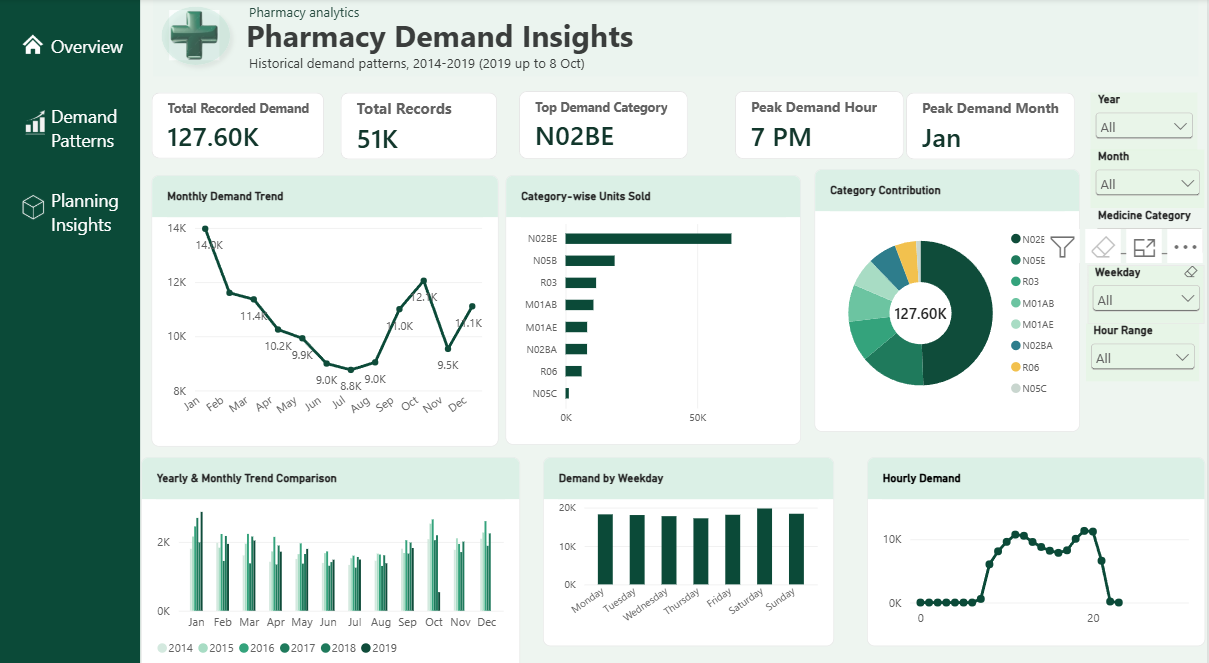

The page's visual inventory and layout, read from the dashboard file:
{"tool":"powerbi","page":{"name":"Page 1","canvas":[1280,720],"ordinal":0},"visuals":[{"type":"shape","box":[0,0,148.6,720],"z":0},{"type":"textbox","box":[261,17,789,63],"z":1000},{"type":"textbox","box":[264.3,59.3,655.7,20.7],"z":2000},{"type":"textbox","box":[264,4,326,20],"z":3000},{"type":"textbox","box":[54.3,38.6,107.1,41.4],"z":4000},{"type":"image","box":[24.3,33.8,21.9,31.4],"z":5000},{"type":"image","box":[20,120,33.2,25],"z":6000},{"type":"textbox","box":[54.3,112.9,105.7,65.7],"z":7000},{"type":"image","box":[16,198,38.7,48.7],"z":8000},{"type":"textbox","box":[54.3,201.4,107.1,65.7],"z":9000},{"type":"image","box":[174,12,64.9,53.6],"z":10000},{"type":"shape","box":[162,0,90.8,80],"z":11000},{"type":"cardVisual","fields":{"Data":["Sum(saleshourly.Units sold)"]},"box":[160,100,183.6,70.9],"z":13000},{"type":"shape","box":[162.1,0,1108.5,83.1],"z":13500},{"type":"cardVisual","fields":{"Data":["saleshourly.Total Records"]},"box":[360.9,100,166.4,71.8],"z":14000},{"type":"cardVisual","fields":{"Data":["Min(saleshourly.Category)"]},"box":[550,99.1,180,72.7],"z":15000},{"type":"cardVisual","fields":{"Data":["saleshourly.Peak Hour Label"]},"box":[780,99.1,180,72.7],"z":16000},{"type":"cardVisual","fields":{"Data":["saleshourly.Peak Month"]},"box":[960,100,179.1,71.8],"z":17000},{"type":"lineChart","title":"Monthly Demand Trend","fields":{"Category":["saleshourly.Month Name"],"Y":["Sum(saleshourly.Units sold)"]},"box":[160,187.8,367.8,287.8],"z":18000},{"type":"clusteredBarChart","title":"Category-wise Units Sold","fields":{"Category":["saleshourly.Category"],"Y":["Sum(saleshourly.Units sold)"]},"box":[536,187.7,313.4,286.3],"z":19000},{"type":"donutChart","title":"Category Contribution","fields":{"Category":["saleshourly.Category"],"Y":["Sum(saleshourly.Units sold)"]},"box":[863.7,181.3,281.5,278.4],"z":20000},{"type":"clusteredColumnChart","title":"Yearly & Monthly Trend Comparison","fields":{"Category":["saleshourly.Month Name"],"Series":["saleshourly.sales_datetime.Variation.Date Hierarchy.Year"],"Y":["Sum(saleshourly.Units sold)"]},"box":[148.9,486.7,402.2,233.3],"z":21000},{"type":"clusteredColumnChart","title":"Demand by Weekday","fields":{"Category":["saleshourly.Weekday Name"],"Y":["Sum(saleshourly.Units sold)"]},"box":[575.8,486.7,308.6,200.4],"z":22000},{"type":"lineChart","title":"Hourly Demand","fields":{"Category":["saleshourly.Hour"],"Y":["Sum(saleshourly.Units sold)"]},"box":[919.2,486.7,358.3,200.8],"z":23000},{"type":"slicer","fields":{"Values":["saleshourly.Year"]},"box":[1156.4,100.2,113.3,61.1],"z":24000},{"type":"slicer","fields":{"Values":["saleshourly.Month Name"]},"box":[1156.4,160.7,120.9,62],"z":25000},{"type":"slicer","title":"Medicine Category","fields":{"Values":["saleshourly.Category"]},"box":[1156.4,222.7,124.1,60.4],"z":26000},{"type":"slicer","fields":{"Values":["saleshourly.Weekday Name"]},"box":[1153.2,283.1,124.3,61.4],"z":27000},{"type":"slicer","fields":{"Values":["saleshourly.Hour"]},"box":[1151.6,345.2,120,61.4],"z":28000}]}

Visuals, with their boxes on the page's 1280x720 design canvas (x1, y1, x2, y2). These are canvas units, not pixel positions in the 1209x663 screenshot, which may show the page scaled, cropped or inside an application window:
shape: select_region(0, 0, 149, 720)
textbox: select_region(261, 17, 1050, 80)
textbox: select_region(264, 59, 920, 80)
textbox: select_region(264, 4, 590, 24)
textbox: select_region(54, 39, 161, 80)
image: select_region(24, 34, 46, 65)
image: select_region(20, 120, 53, 145)
textbox: select_region(54, 113, 160, 179)
image: select_region(16, 198, 55, 247)
textbox: select_region(54, 201, 161, 267)
image: select_region(174, 12, 239, 66)
shape: select_region(162, 0, 253, 80)
cardVisual - Sum(saleshourly.Units sold): select_region(160, 100, 344, 171)
shape: select_region(162, 0, 1271, 83)
cardVisual - saleshourly.Total Records: select_region(361, 100, 527, 172)
cardVisual - Min(saleshourly.Category): select_region(550, 99, 730, 172)
cardVisual - saleshourly.Peak Hour Label: select_region(780, 99, 960, 172)
cardVisual - saleshourly.Peak Month: select_region(960, 100, 1139, 172)
"Monthly Demand Trend" lineChart: select_region(160, 188, 528, 476)
"Category-wise Units Sold" clusteredBarChart: select_region(536, 188, 849, 474)
"Category Contribution" donutChart: select_region(864, 181, 1145, 460)
"Yearly & Monthly Trend Comparison" clusteredColumnChart: select_region(149, 487, 551, 720)
"Demand by Weekday" clusteredColumnChart: select_region(576, 487, 884, 687)
"Hourly Demand" lineChart: select_region(919, 487, 1278, 688)
slicer - saleshourly.Year: select_region(1156, 100, 1270, 161)
slicer - saleshourly.Month Name: select_region(1156, 161, 1277, 223)
"Medicine Category" slicer: select_region(1156, 223, 1280, 283)
slicer - saleshourly.Weekday Name: select_region(1153, 283, 1278, 344)
slicer - saleshourly.Hour: select_region(1152, 345, 1272, 407)
